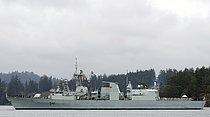MIL_Ship: (7, 70, 206, 110)
